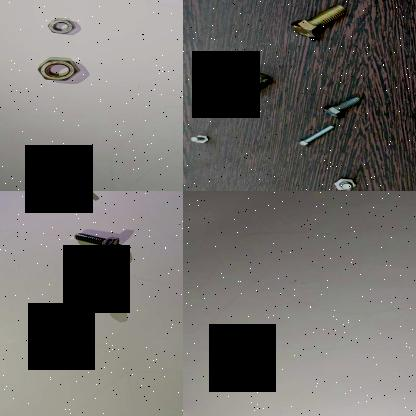Bolts: (204, 60, 278, 98), (288, 4, 350, 39), (83, 282, 127, 314), (68, 231, 130, 252), (291, 124, 338, 151), (46, 191, 98, 213), (320, 96, 362, 118), (326, 175, 358, 191), (190, 131, 214, 147)
NUTS: (28, 56, 85, 83), (36, 12, 83, 36)
